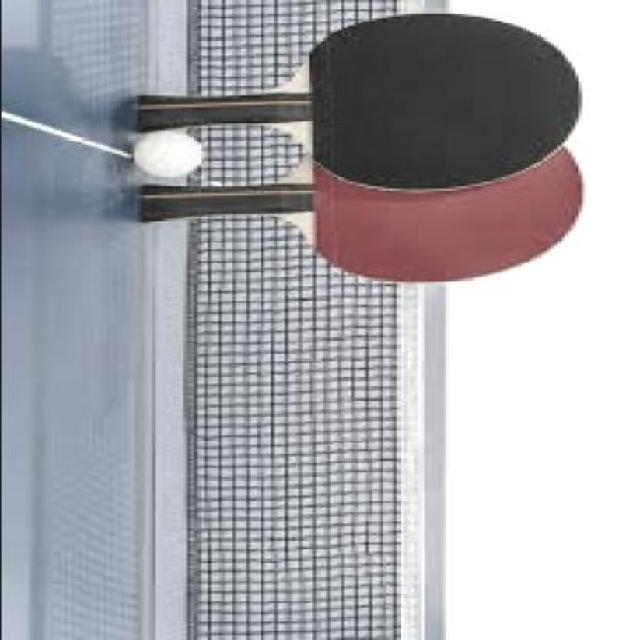table_tennis_racket: (278, 136, 598, 302), (295, 11, 583, 187)
